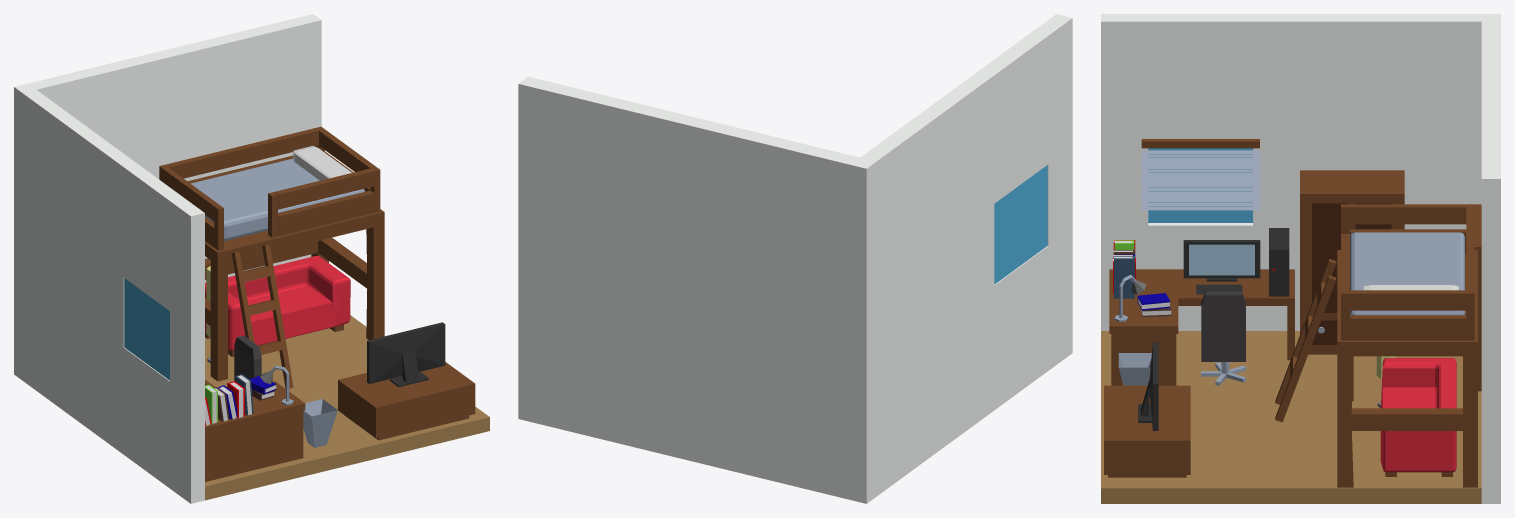
Rendered from low_poly_room_1.glb.
3 renders of one model, left to right at view 1: azimuth 30°, elevation 25°; view 2: azimuth 150°, elevation 25°; view 3: azimuth 270°, elevation 25°, orthographic. The views are drawn at different scales.
Bounding box in the file's own units: 6.6 × 6.07 × 6.76.
